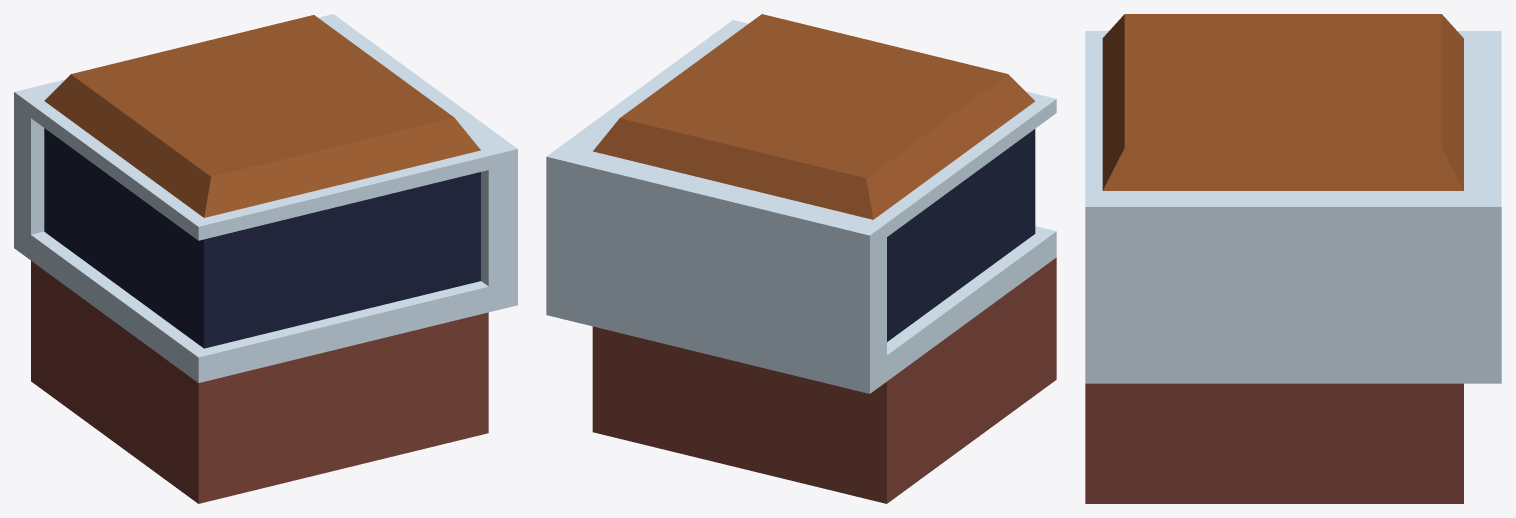
File: modern.glb
3 views of the same model, side by side, from view 1: azimuth 30°, elevation 25°; view 2: azimuth 150°, elevation 25°; view 3: azimuth 270°, elevation 25° (orthographic). The views are drawn at different scales.
Visible parts, largest first — view 1: Plane; view 2: Plane; view 3: Plane.
Boxes of the visible parts, x1,y1,x2,y2 form: Plane: [14, 14, 517, 503]; Plane: [546, 14, 1056, 503]; Plane: [1085, 14, 1501, 503].
Size of the model in its own units: 2.2 by 2.02 by 2.2.
1 material, 1 textured.
